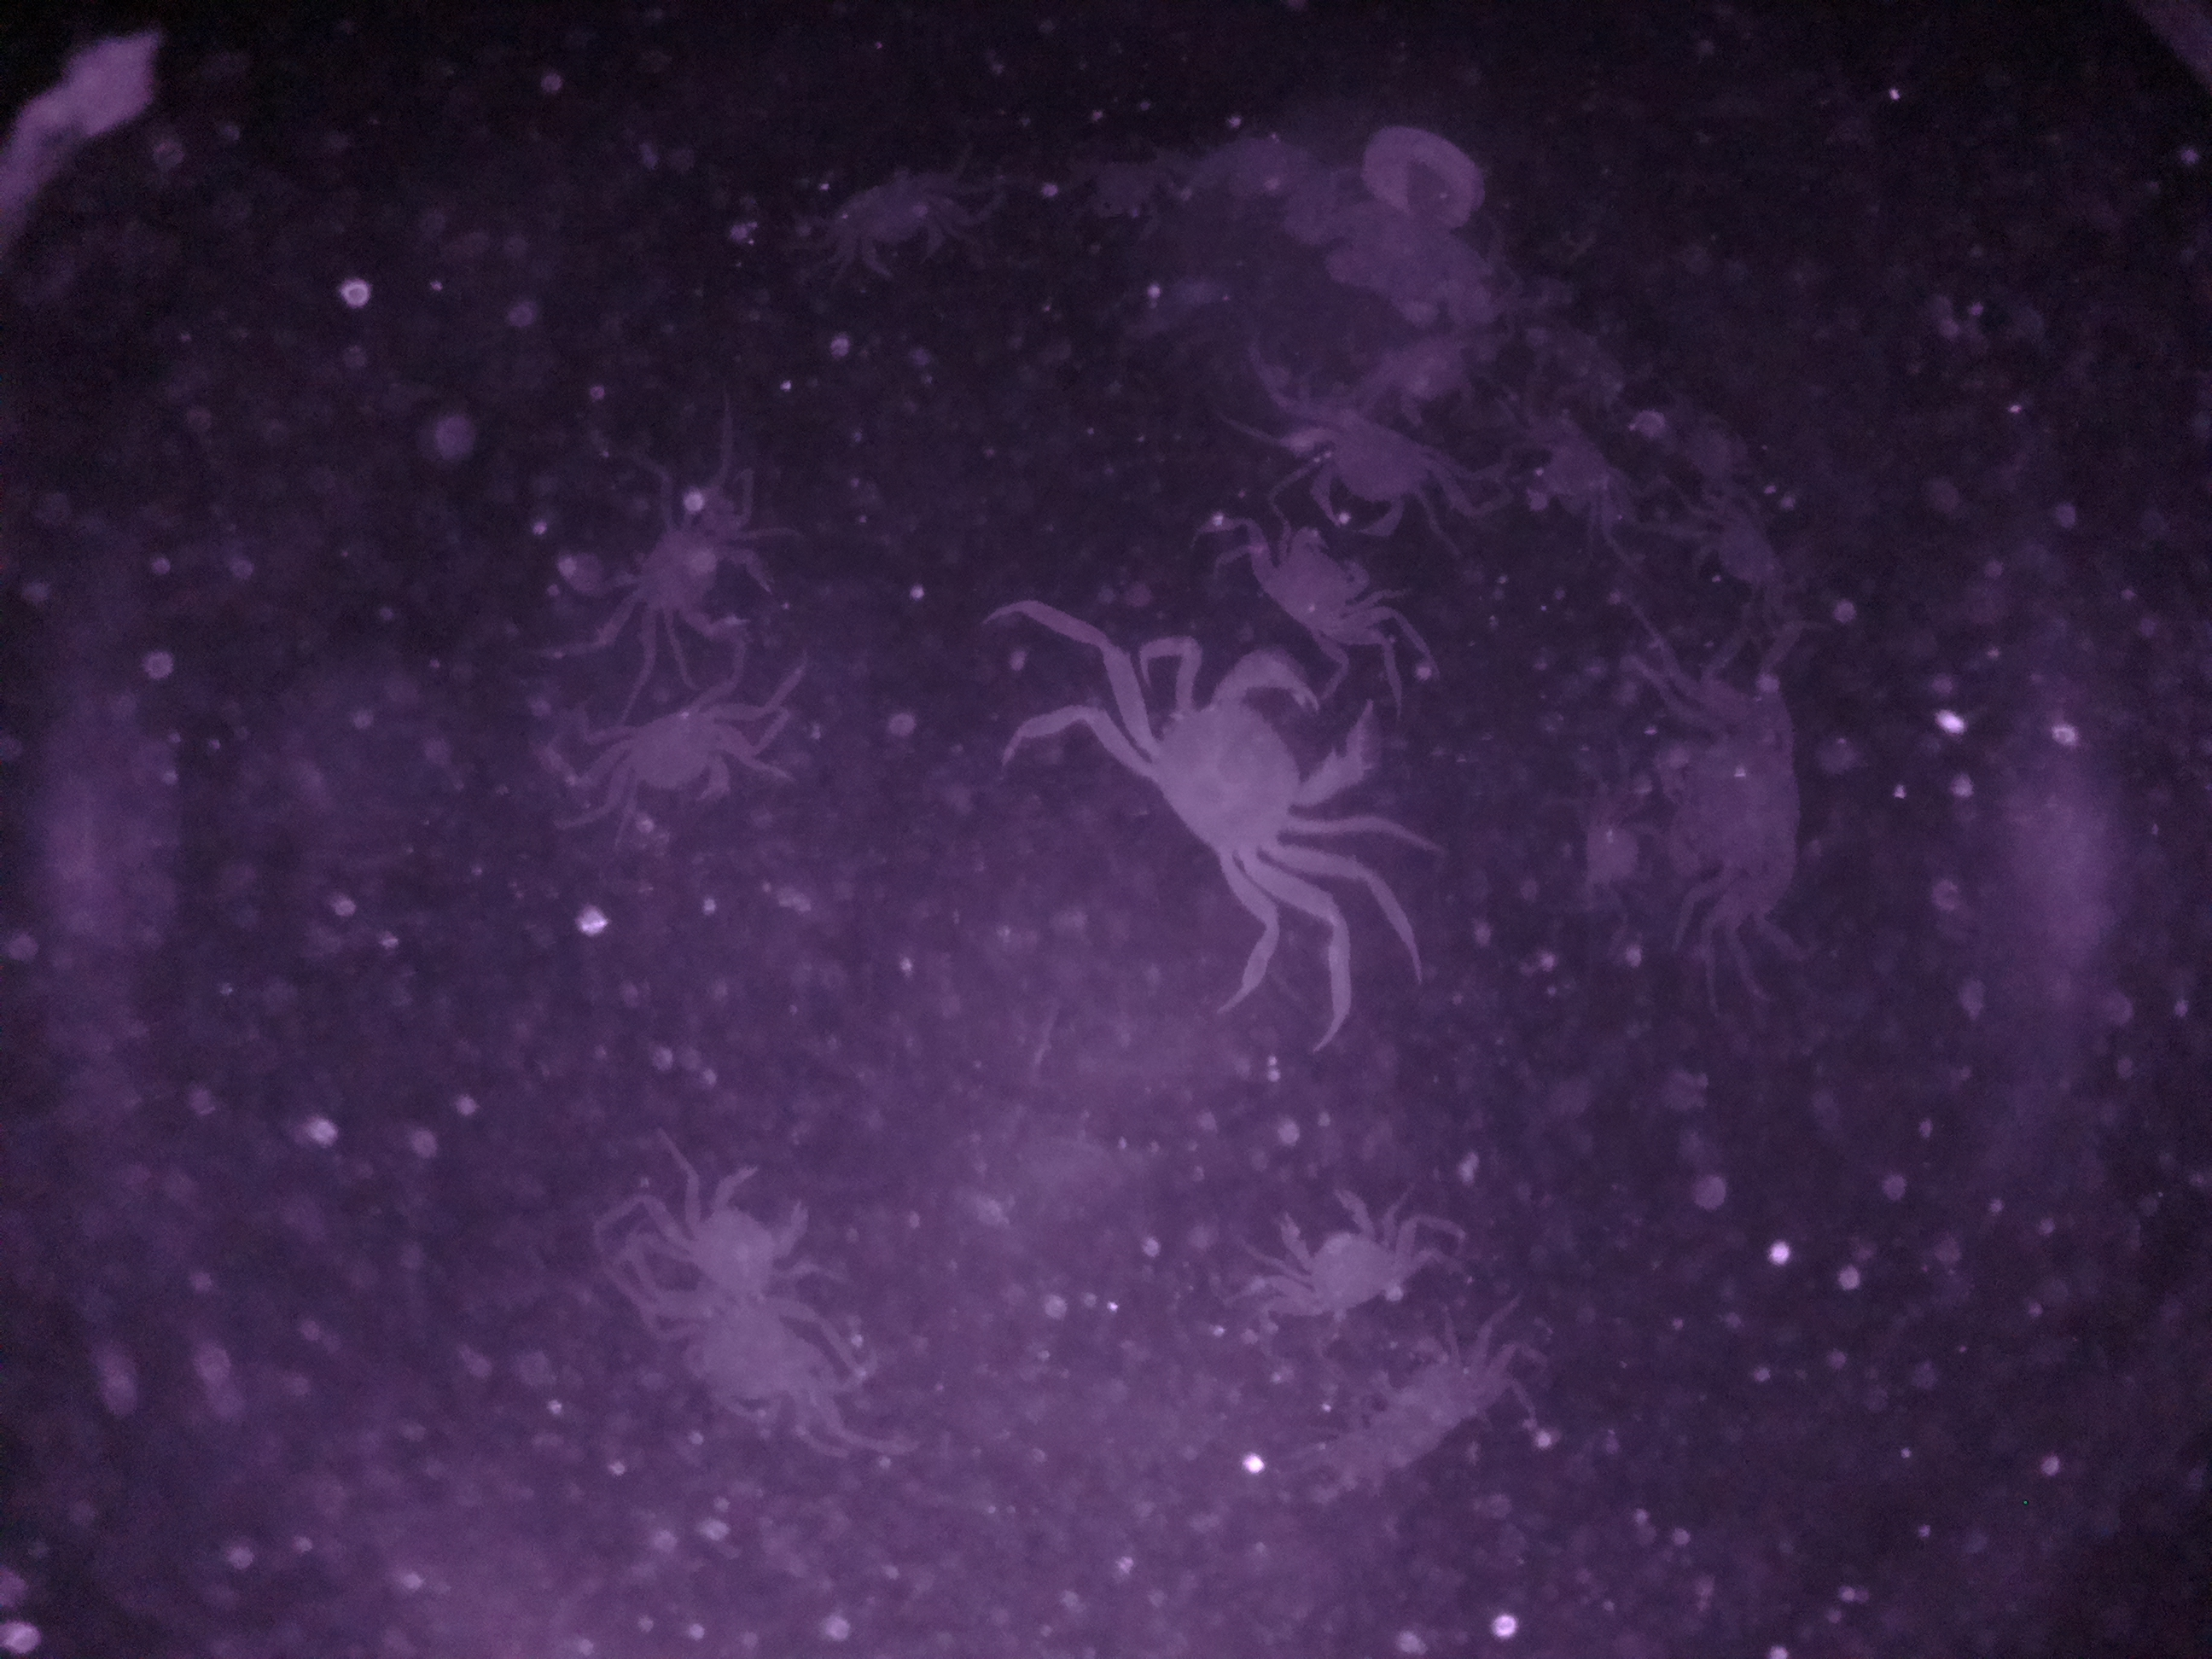Crab: (1090, 662, 1390, 913), (1642, 685, 1822, 936), (604, 481, 798, 669), (578, 685, 786, 835), (1238, 1166, 1423, 1330), (1275, 413, 1505, 532), (1237, 507, 1399, 671)
